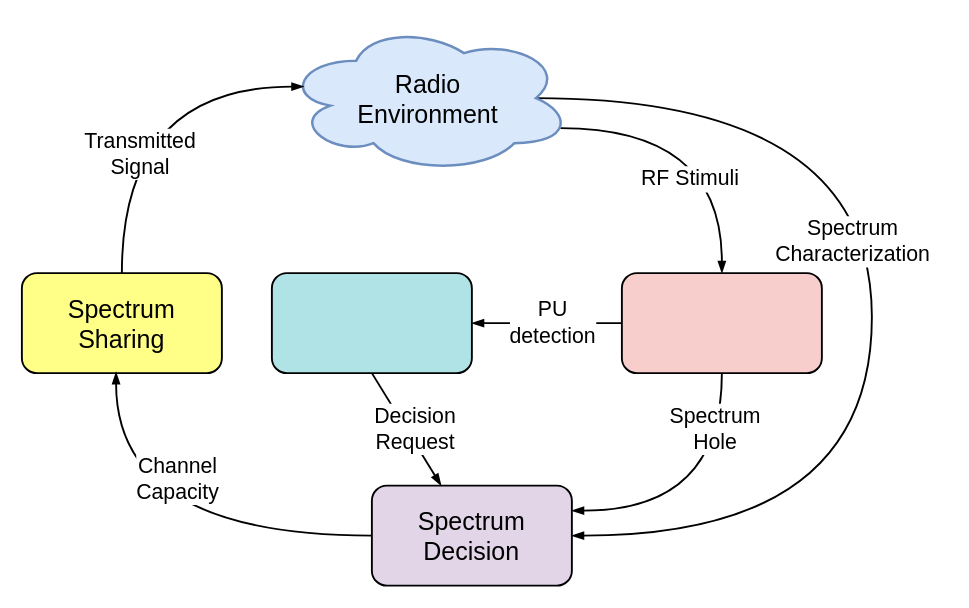
Some shapes in this 969 by 608 pixel diagram are drawn without their labels. Here are the shapes that lost their labels. From the top down, the box of each, then its label:
(270, 272, 472, 374): Spectrum Mobility
(620, 272, 822, 374): Spectrum Sensing
